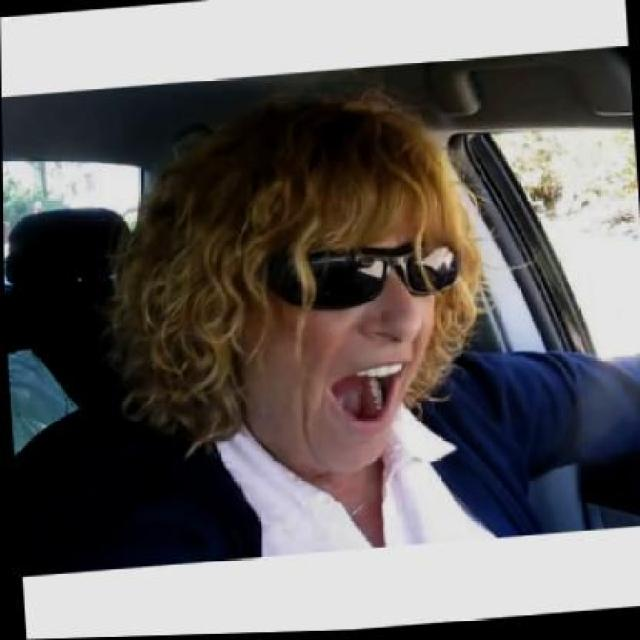inattentif: (211, 84, 447, 488)
